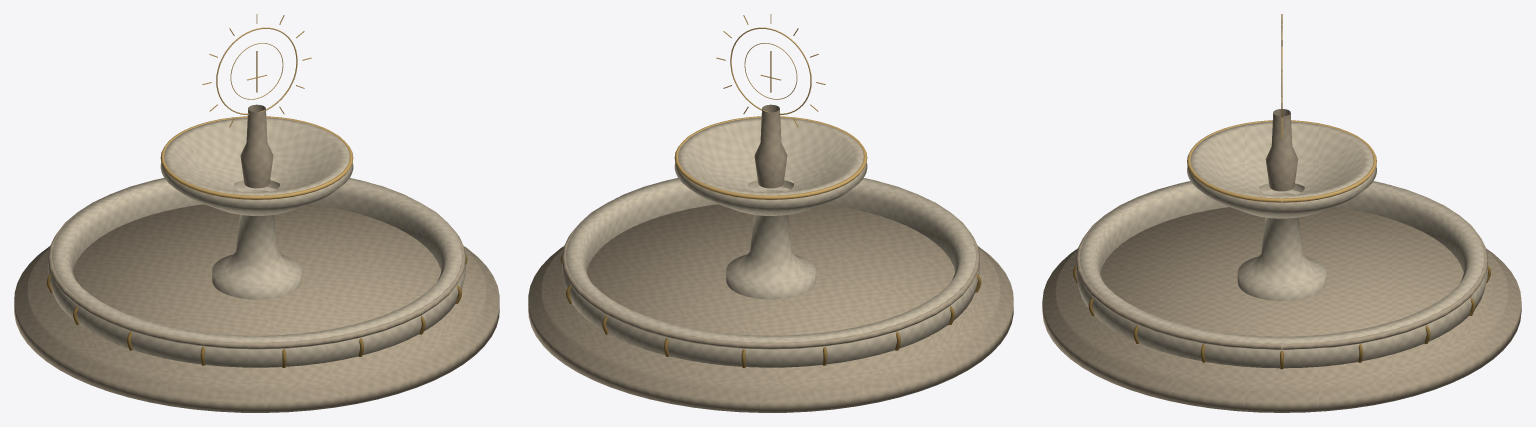
File: sunwell_fountain.glb
3 views of the same model, side by side, from view 1: azimuth 30°, elevation 25°; view 2: azimuth 150°, elevation 25°; view 3: azimuth 270°, elevation 25° (orthographic).
Visible parts, largest first — view 1: Fountain_cut_stone, Fountain_limestone, Fountain_gold, Fountain_gold_shadow; view 2: Fountain_cut_stone, Fountain_limestone, Fountain_gold, Fountain_gold_shadow; view 3: Fountain_cut_stone, Fountain_limestone, Fountain_gold, Fountain_gold_shadow.
Part boxes in pixels (x1=…): Fountain_cut_stone: x1=14, y1=104, x2=499, y2=412; Fountain_limestone: x1=48, y1=117, x2=465, y2=367; Fountain_gold: x1=160, y1=14, x2=353, y2=199; Fountain_gold_shadow: x1=46, y1=254, x2=467, y2=367; Fountain_cut_stone: x1=528, y1=104, x2=1013, y2=412; Fountain_limestone: x1=562, y1=117, x2=979, y2=367; Fountain_gold: x1=674, y1=14, x2=867, y2=199; Fountain_gold_shadow: x1=560, y1=254, x2=981, y2=367; Fountain_cut_stone: x1=1042, y1=109, x2=1521, y2=412; Fountain_limestone: x1=1075, y1=121, x2=1488, y2=368; Fountain_gold: x1=1187, y1=14, x2=1376, y2=202; Fountain_gold_shadow: x1=1073, y1=265, x2=1490, y2=369.
Size of the model in its own units: 6.5 by 4.37 by 6.5.
4 materials, 2 textured.
